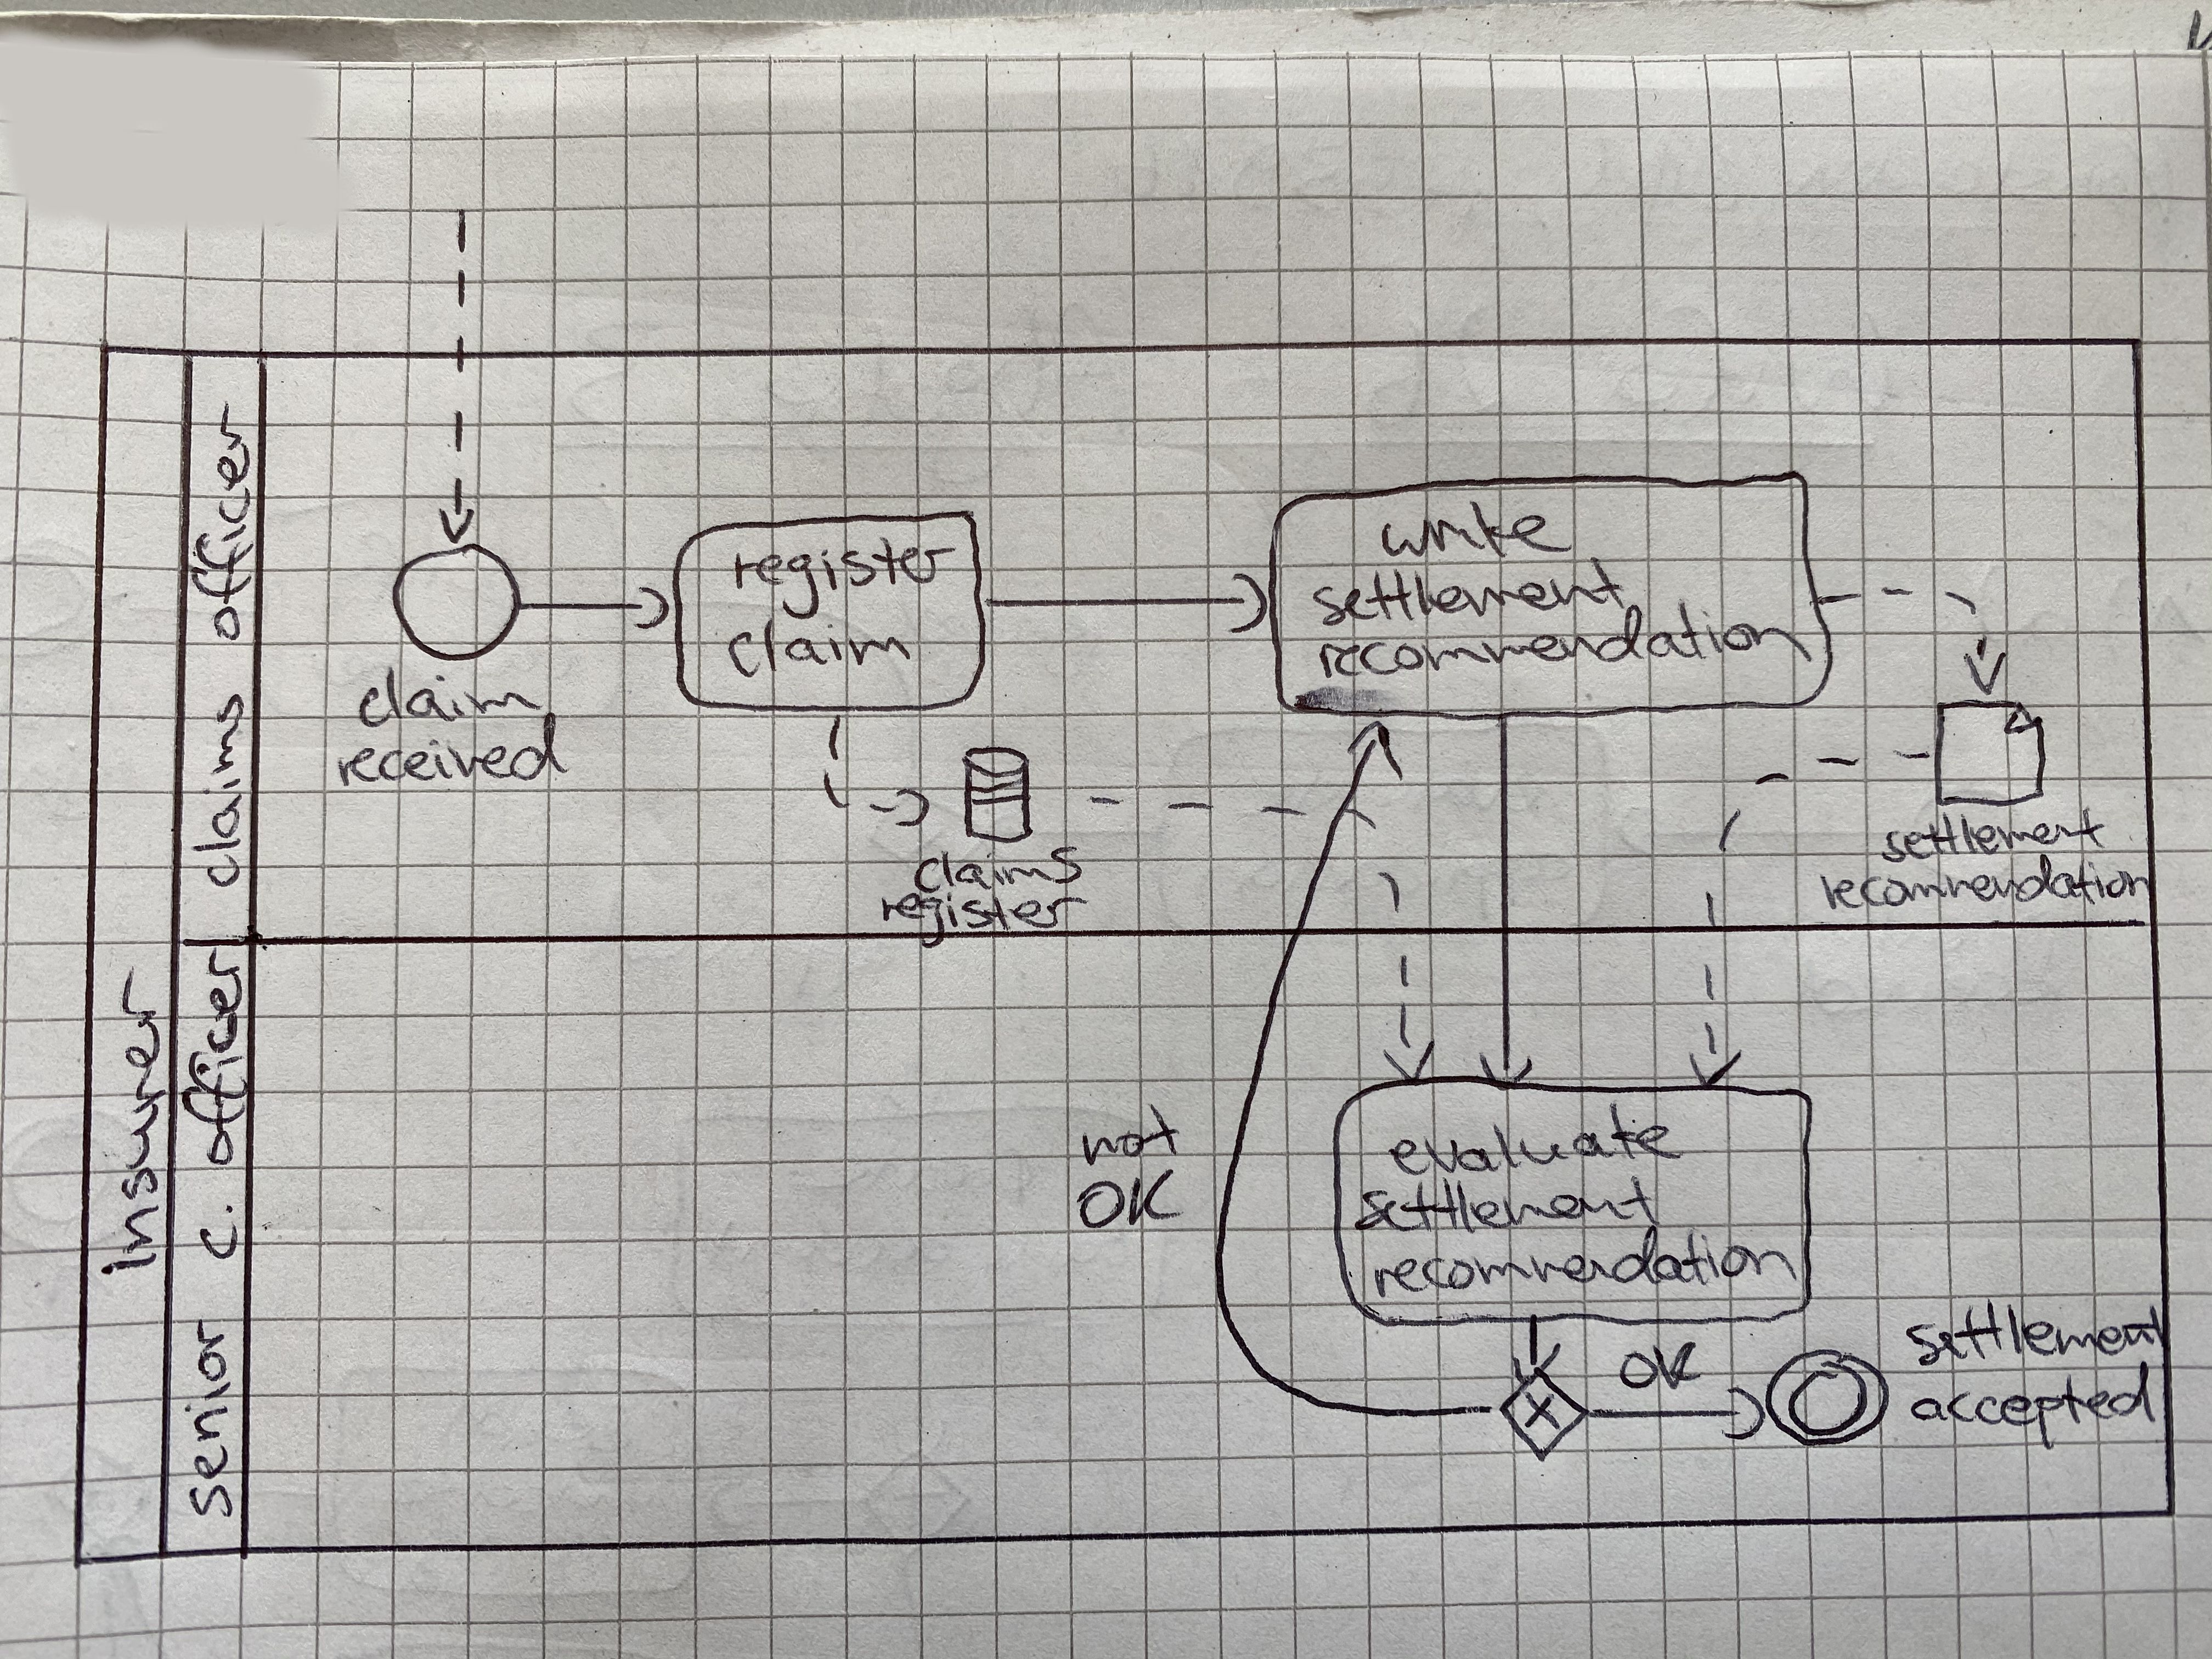OK: (1071, 1162, 1193, 1234), (1611, 1333, 1709, 1398)
accepted: (1902, 1356, 2163, 1457)
c.: (192, 1199, 246, 1269)
claim: (348, 662, 552, 735), (719, 613, 918, 685)
claims: (181, 685, 254, 894), (907, 840, 1090, 901)
evaluate: (1379, 1091, 1691, 1183)
insurer: (92, 957, 174, 1288)
not: (1075, 1096, 1186, 1171)
officer: (178, 394, 263, 652), (174, 941, 256, 1171)
received: (329, 704, 577, 795)
recommendation: (1308, 592, 1822, 687), (1367, 1216, 1804, 1309), (1811, 847, 2161, 918)
register: (723, 530, 963, 629), (876, 884, 1096, 955)
senior: (172, 1309, 242, 1521)
settlement: (1306, 551, 1635, 633), (1895, 1290, 2177, 1375), (1345, 1168, 1669, 1237), (1876, 800, 2111, 870)
write: (1374, 493, 1583, 566)
